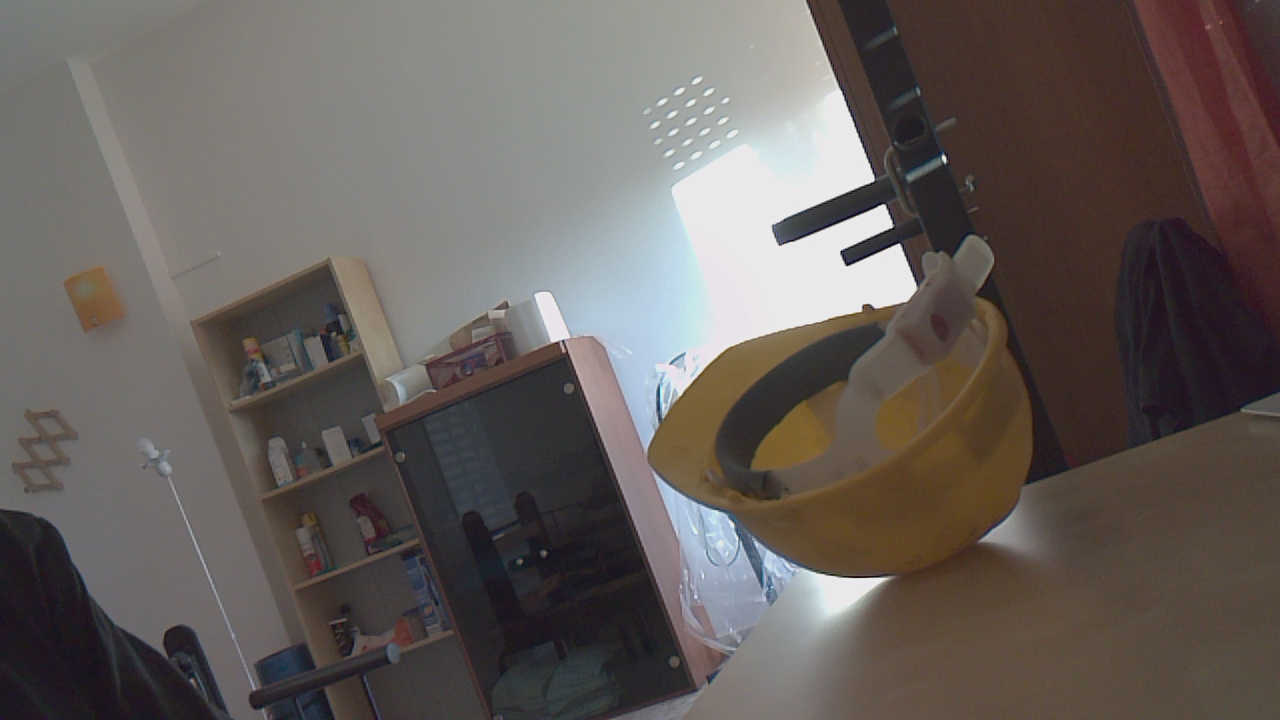Helmet: (634, 266, 1052, 590)
